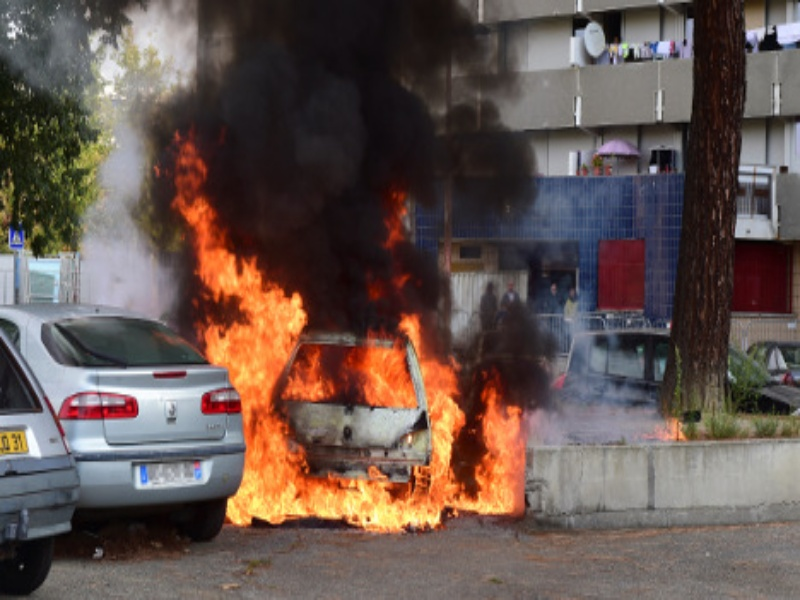smoke: (180, 1, 508, 293)
